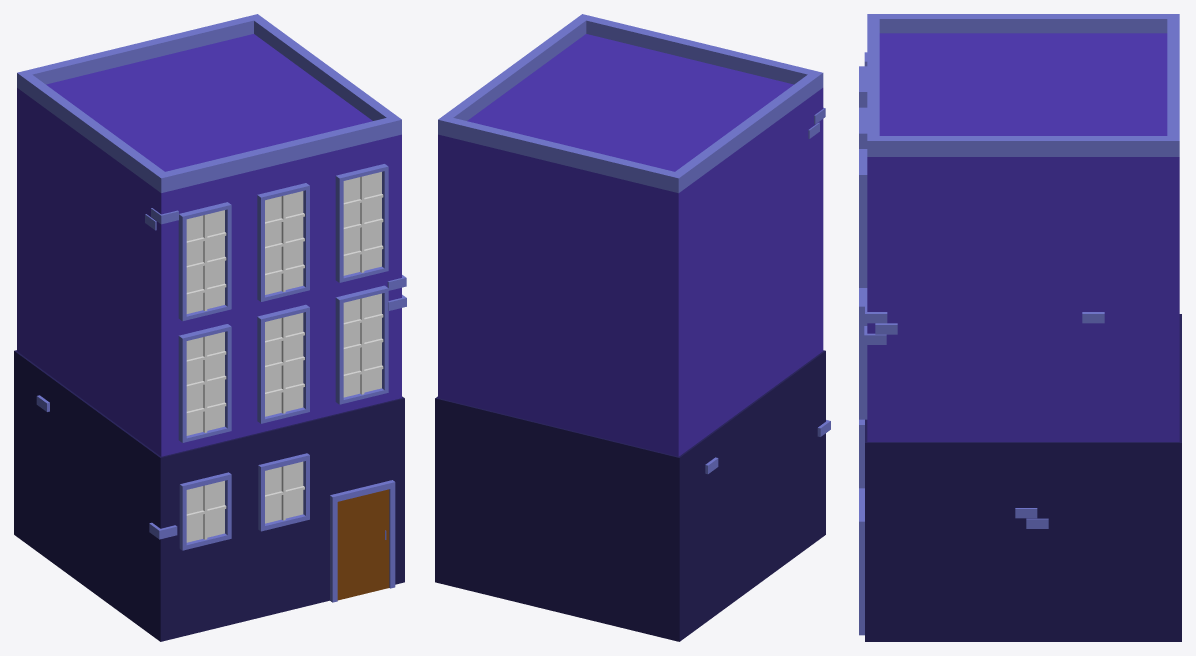
Rendered from niceBuildingBlue.fbx.
3 renders of one model, left to right at view 1: azimuth 30°, elevation 25°; view 2: azimuth 150°, elevation 25°; view 3: azimuth 270°, elevation 25°, orthographic. The views are drawn at different scales.
Visible parts, largest first — view 1: Cube; view 2: Cube; view 3: Cube.
Boxes of the visible parts, bbox=[...] form: Cube: bbox=[14, 14, 406, 641]; Cube: bbox=[435, 14, 830, 641]; Cube: bbox=[859, 14, 1181, 641].
Bounding box in the file's own units: 384 × 681 × 398.
